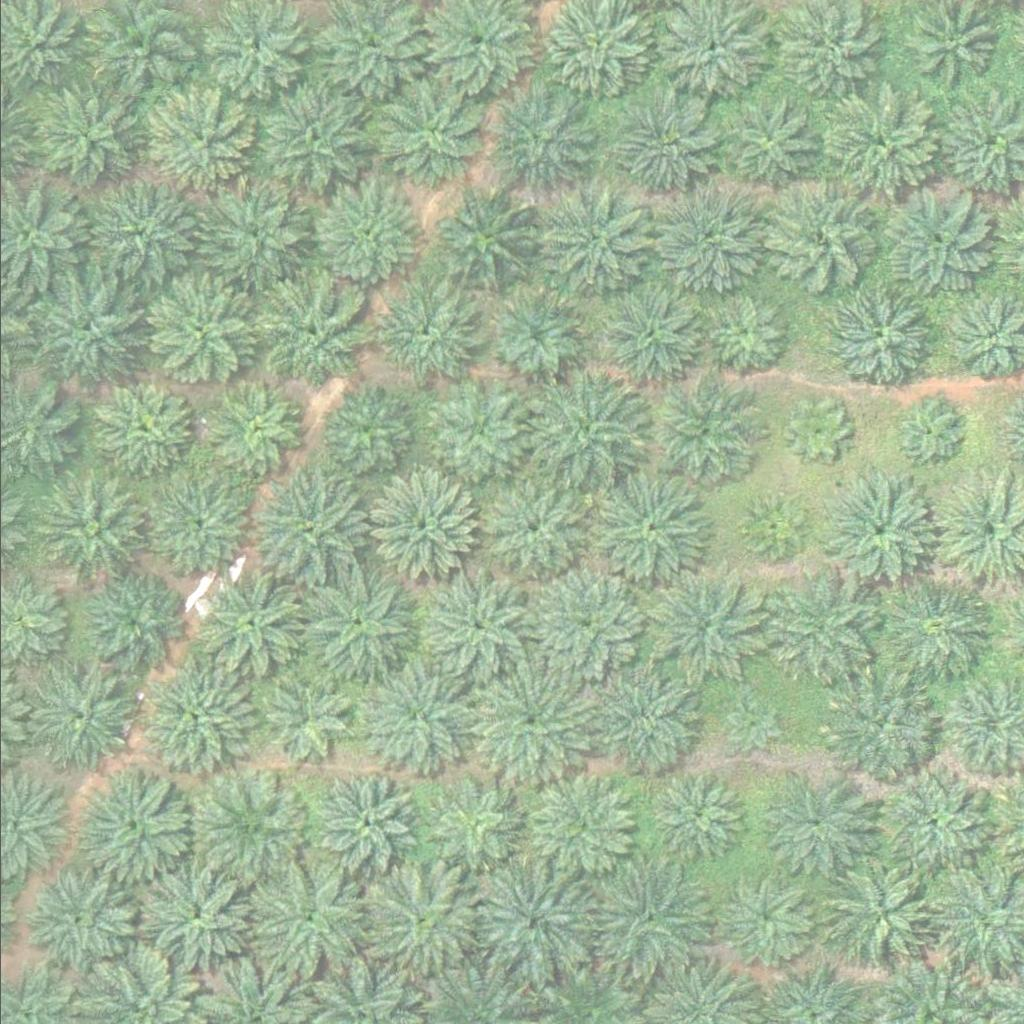Kelapa_Sawit: (597, 863, 711, 976), (753, 769, 867, 882), (425, 188, 539, 301), (373, 73, 487, 186), (307, 180, 421, 293), (254, 278, 368, 391), (143, 275, 257, 388), (825, 858, 938, 971), (476, 863, 589, 976), (873, 767, 986, 880), (652, 566, 765, 679), (529, 570, 642, 683), (818, 475, 931, 588), (592, 472, 705, 585), (763, 180, 876, 293), (650, 184, 763, 297), (535, 185, 648, 298), (825, 85, 938, 198), (705, 87, 818, 200), (195, 176, 308, 289), (362, 472, 475, 585), (417, 565, 530, 678), (303, 568, 416, 681), (198, 569, 311, 682), (138, 663, 251, 776), (79, 773, 192, 886), (363, 864, 476, 977), (22, 660, 135, 773), (28, 273, 141, 386), (818, 669, 932, 781), (875, 572, 989, 684), (485, 83, 599, 195), (36, 470, 150, 582), (521, 770, 634, 882), (587, 664, 700, 776), (474, 666, 587, 778), (763, 575, 876, 687), (473, 472, 586, 584), (646, 376, 759, 488), (524, 375, 637, 487), (819, 284, 932, 396), (588, 278, 701, 390), (878, 184, 991, 296), (603, 88, 716, 200), (256, 85, 369, 197), (141, 86, 254, 198), (88, 183, 201, 295), (249, 470, 362, 582), (139, 468, 252, 580), (356, 660, 469, 772), (193, 772, 306, 884), (251, 866, 364, 978), (145, 864, 258, 976), (21, 868, 134, 980), (25, 81, 138, 193), (483, 286, 584, 386), (428, 386, 529, 486), (318, 387, 419, 487), (83, 571, 184, 671), (250, 671, 351, 771), (428, 775, 529, 875), (317, 771, 418, 871), (717, 868, 817, 968), (648, 766, 748, 866), (379, 289, 479, 389), (204, 385, 304, 485), (92, 381, 192, 481), (703, 290, 791, 378), (741, 496, 804, 559), (895, 404, 958, 467), (784, 399, 847, 462), (721, 693, 784, 755)
